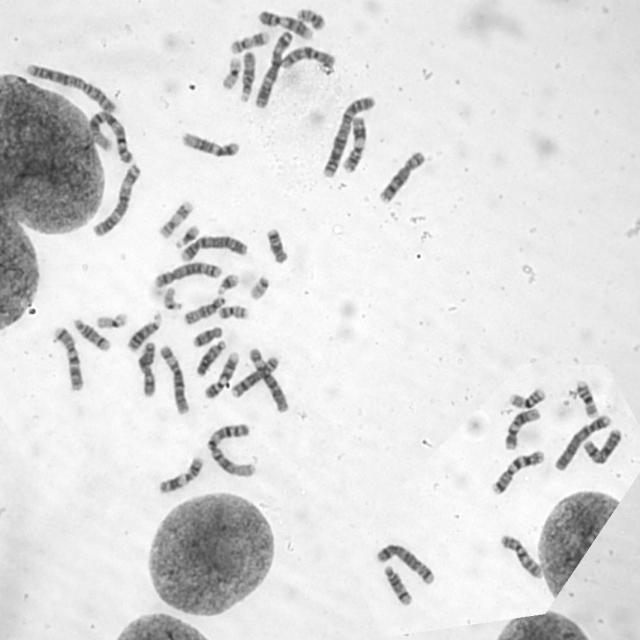A1: (206, 422, 258, 478), (88, 111, 134, 164)
A2: (21, 62, 116, 112), (320, 95, 376, 179)
A3: (90, 162, 144, 238), (254, 29, 294, 110)
B4: (552, 413, 610, 472), (179, 233, 250, 265)
B5: (375, 542, 438, 586), (154, 261, 222, 289)
C10: (499, 533, 545, 581), (279, 44, 336, 72)
C11: (156, 454, 203, 495), (341, 115, 366, 174)
C12: (181, 132, 241, 160), (502, 408, 540, 452)
C6: (249, 347, 291, 415), (158, 344, 192, 414)
C7: (489, 449, 546, 498), (50, 324, 86, 394)
C8: (376, 151, 429, 207), (229, 357, 281, 401)
C9: (203, 350, 240, 399), (257, 10, 315, 39)
D13: (126, 312, 163, 353), (195, 340, 227, 378)
D14: (72, 317, 112, 353), (384, 564, 412, 607)
D15: (182, 296, 226, 326), (239, 50, 256, 102)
E16: (575, 376, 600, 419), (508, 386, 546, 409)
E17: (156, 199, 194, 239), (227, 28, 271, 55)
E18: (266, 225, 290, 265), (192, 326, 224, 350)
F19: (219, 55, 242, 92), (95, 312, 131, 330)
F20: (294, 6, 328, 32), (218, 304, 249, 320)
G21: (172, 223, 202, 250), (215, 271, 240, 296)
G22: (248, 274, 272, 302), (160, 285, 183, 311)
X: (582, 428, 622, 466), (136, 340, 156, 400)
